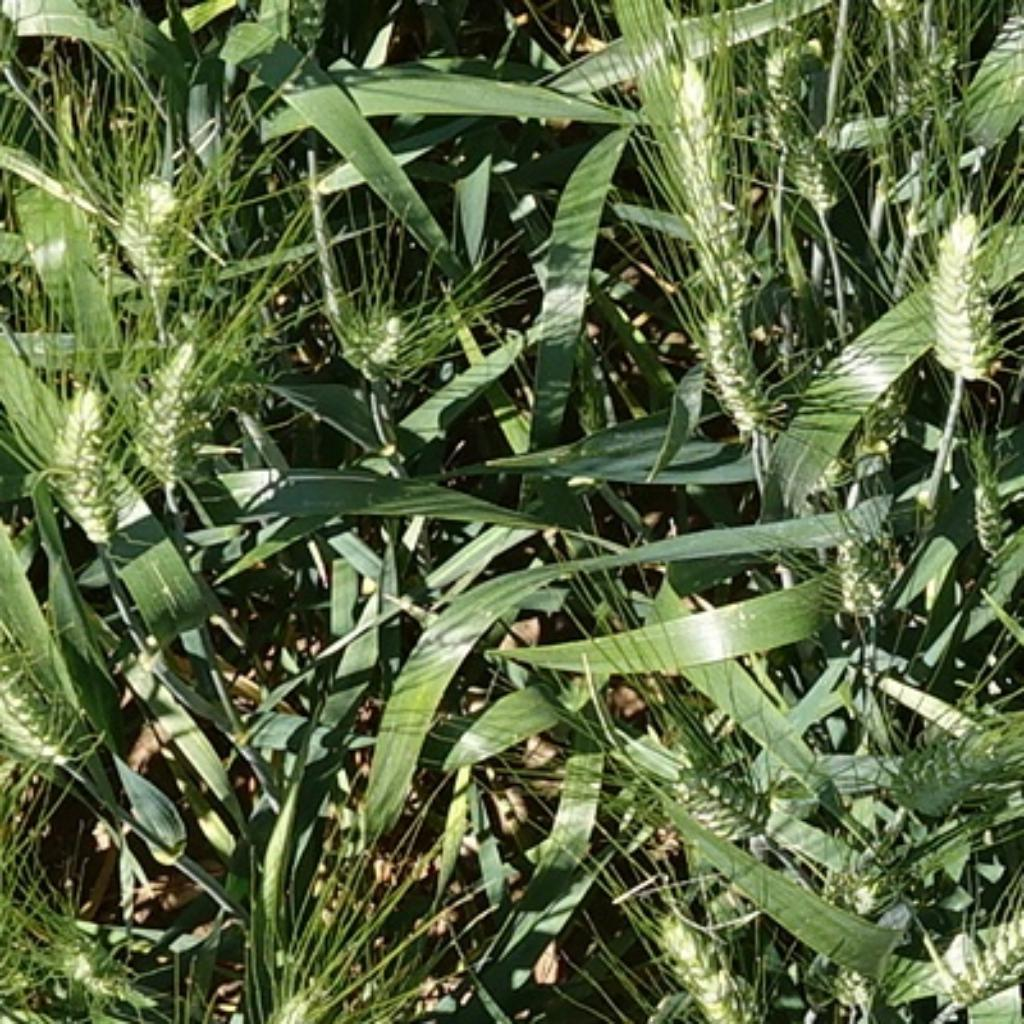0-0: (651, 54, 754, 307), (870, 693, 1024, 819), (913, 202, 1008, 384), (647, 901, 780, 1024), (908, 885, 1024, 1016), (20, 898, 145, 1013), (688, 294, 783, 445), (102, 151, 202, 291), (2, 632, 102, 770), (117, 331, 207, 478), (38, 402, 130, 545), (665, 757, 791, 852), (755, 35, 832, 158), (768, 104, 855, 207), (898, 12, 983, 115), (824, 514, 906, 616), (844, 350, 906, 463), (322, 297, 410, 372), (826, 834, 904, 917), (801, 942, 880, 1021), (240, 962, 337, 1024), (962, 453, 1016, 552)
